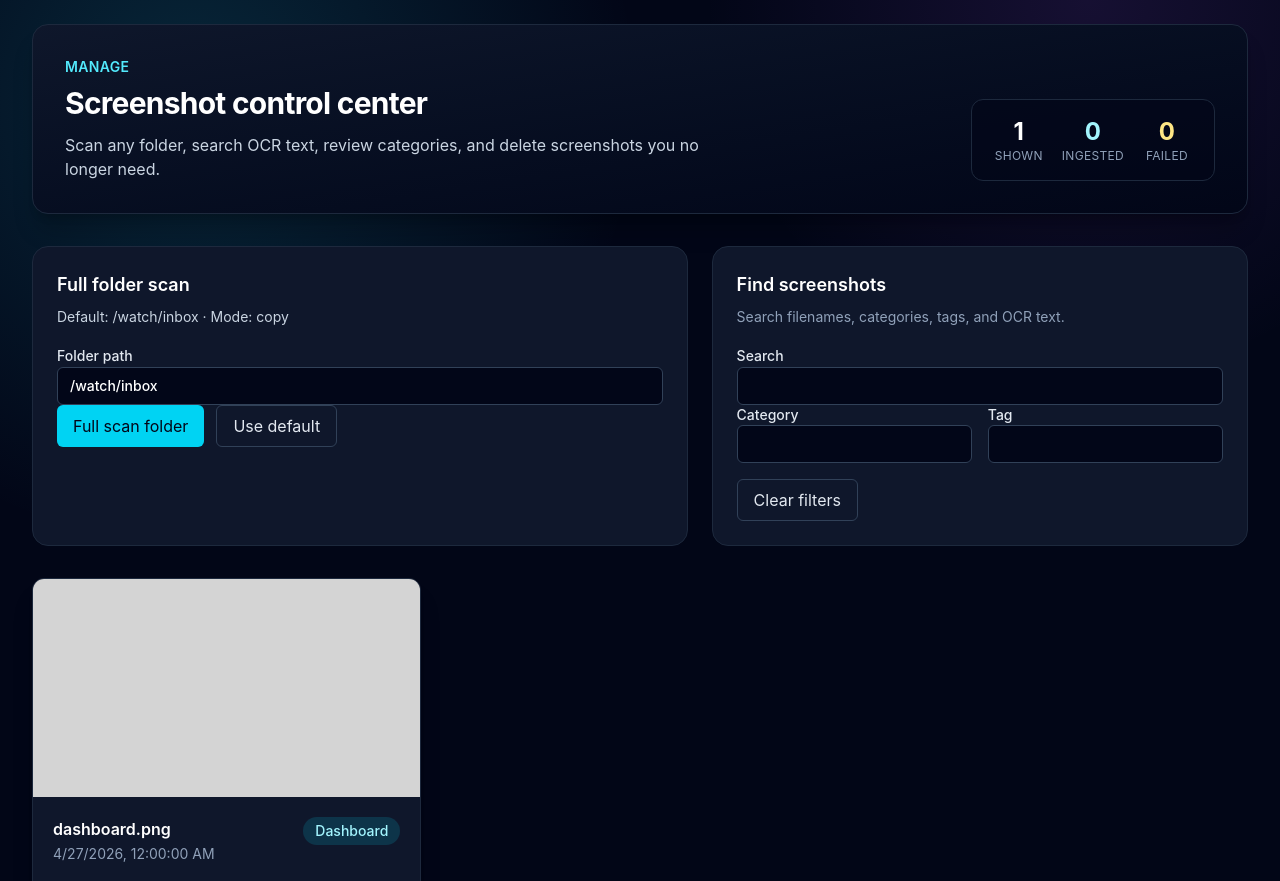
it: LibraryPage › refreshes with latest filters after scan completes
Check: the heading "dashboard.png" is shown, box [53,819,171,839]
Click the button "Full scan folder": (131, 426) [57,405,204,447]
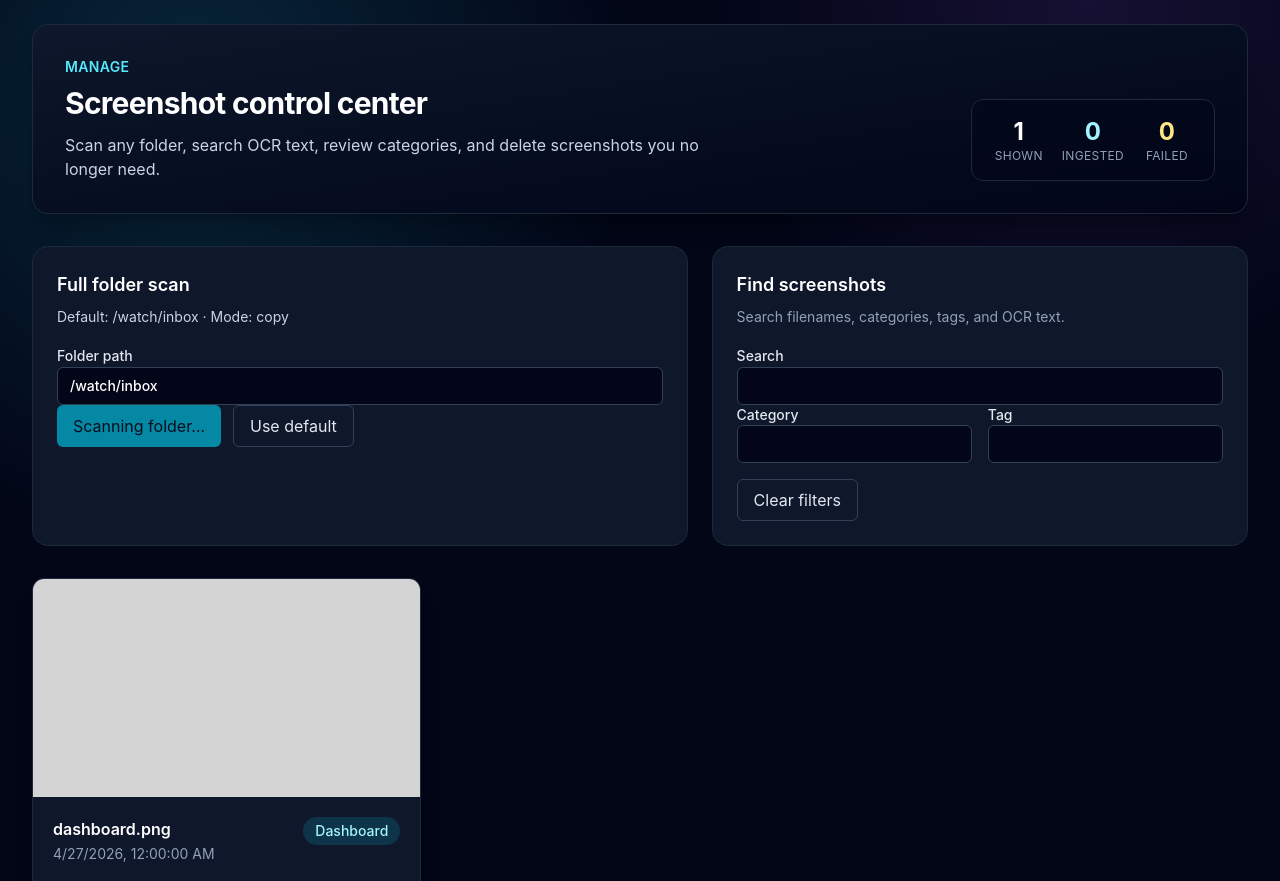
In the search field named "search screenshots": (980, 386) [737,367,1223,405], type "fresh"
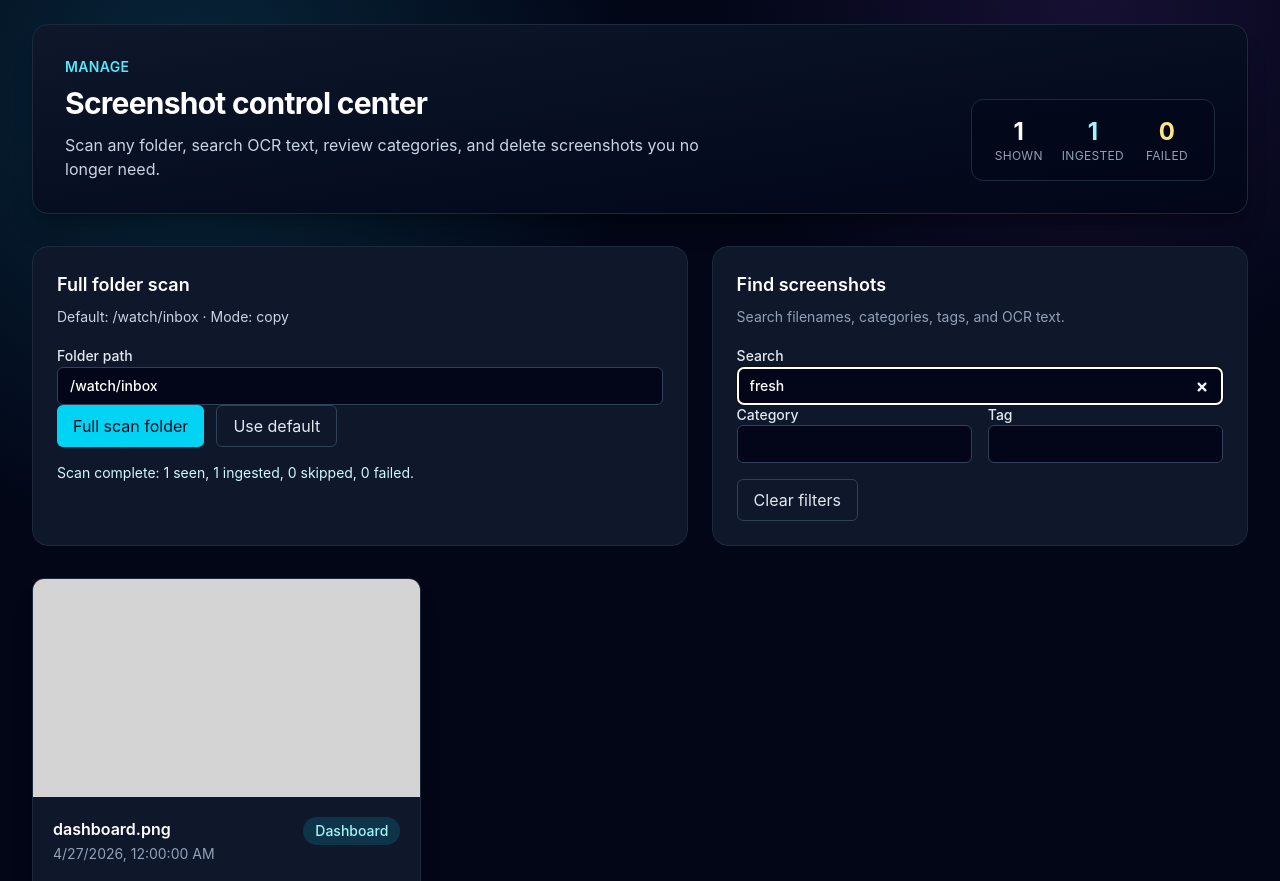
Check: the text "Scan complete: 1 seen, 1 ingested, 0 skipped, 0 failed." is shown, box [57,464,414,481]
